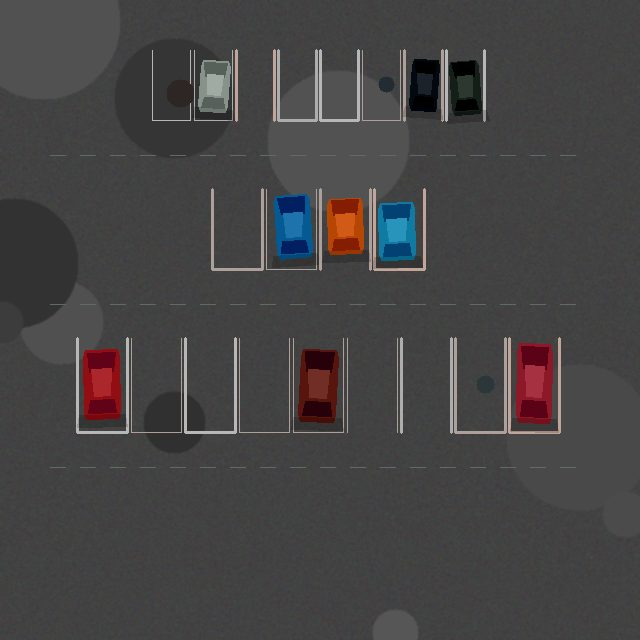space-empty: (131, 338, 181, 432), (185, 338, 235, 432), (239, 338, 289, 432), (347, 338, 397, 432), (401, 338, 451, 432), (455, 338, 505, 432), (212, 189, 262, 269), (152, 50, 190, 120), (236, 50, 274, 120), (278, 50, 316, 120), (320, 50, 358, 120), (362, 50, 400, 120)
space-occupied: (77, 338, 127, 432), (293, 338, 343, 432), (509, 338, 559, 432), (266, 189, 316, 269), (320, 189, 370, 269), (374, 189, 424, 269), (194, 50, 232, 120), (404, 50, 442, 120), (446, 50, 484, 120)
